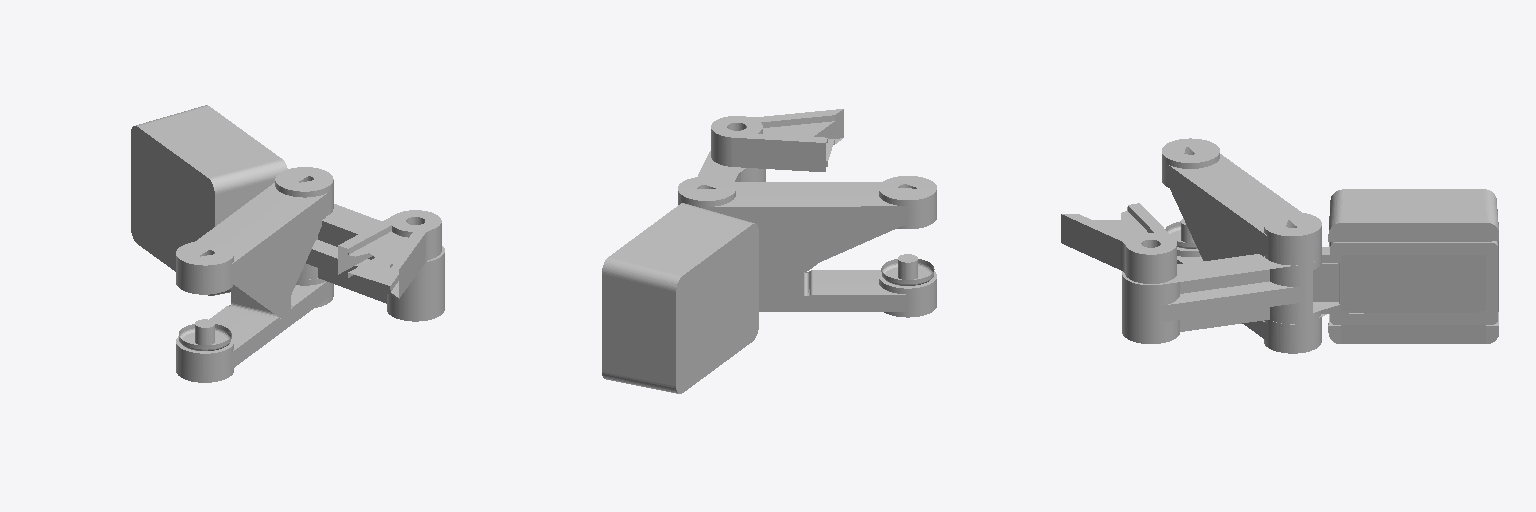
File: gripper_right_arm.obj
The picture shows the model from 3 angles: view 1: azimuth 30°, elevation 25°; view 2: azimuth 150°, elevation 25°; view 3: azimuth 270°, elevation 25°; orthographic projection.
Visible parts, largest first — view 1: Mesh1 Gripper_right_arm1 Model; view 2: Mesh1 Gripper_right_arm1 Model; view 3: Mesh1 Gripper_right_arm1 Model.
Part boxes in pixels (bbox=[...]): Mesh1 Gripper_right_arm1 Model: bbox=[131, 105, 444, 382]; Mesh1 Gripper_right_arm1 Model: bbox=[602, 109, 936, 393]; Mesh1 Gripper_right_arm1 Model: bbox=[1061, 138, 1498, 353].
Bounding box in the file's own units: 0.0468 × 0.0225 × 0.0737.